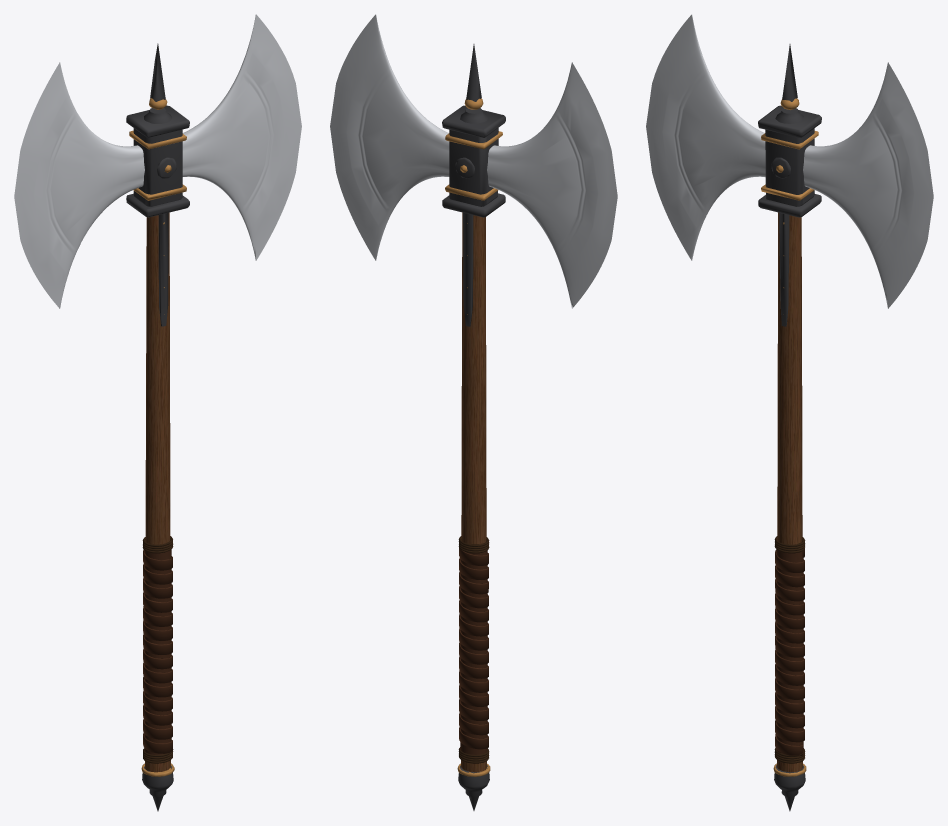
File: battle_axe.glb
The picture shows the model from 3 angles, left to right: view 1: azimuth 30°, elevation 25°; view 2: azimuth 150°, elevation 25°; view 3: azimuth 330°, elevation 25°; orthographic projection.
Parts seen in each view (by area): view 1: battle_axe_blade, battle_axe_wood, battle_axe_iron, battle_axe_leather, battle_axe_bronze, battle_axe_cord; view 2: battle_axe_blade, battle_axe_wood, battle_axe_iron, battle_axe_leather, battle_axe_bronze, battle_axe_cord; view 3: battle_axe_blade, battle_axe_wood, battle_axe_iron, battle_axe_leather, battle_axe_bronze, battle_axe_cord.
Boxes of the visible parts, x1,y1,x2,y2 form: battle_axe_blade: (14,14,301,308); battle_axe_wood: (145,212,170,772); battle_axe_iron: (126,43,189,811); battle_axe_leather: (143,549,172,754); battle_axe_bronze: (129,98,186,776); battle_axe_cord: (142,536,173,763); battle_axe_blade: (330,14,617,308); battle_axe_wood: (461,212,486,772); battle_axe_iron: (442,44,505,810); battle_axe_leather: (459,548,488,754); battle_axe_bronze: (445,98,502,776); battle_axe_cord: (458,536,489,763); battle_axe_blade: (646,14,933,308); battle_axe_wood: (777,212,802,772); battle_axe_iron: (758,44,821,811); battle_axe_leather: (775,547,804,756); battle_axe_bronze: (761,98,818,776); battle_axe_cord: (774,536,805,763).
Size of the model in its own units: 0.47 by 1.21 by 0.0632.
6 materials, 2 textured.
